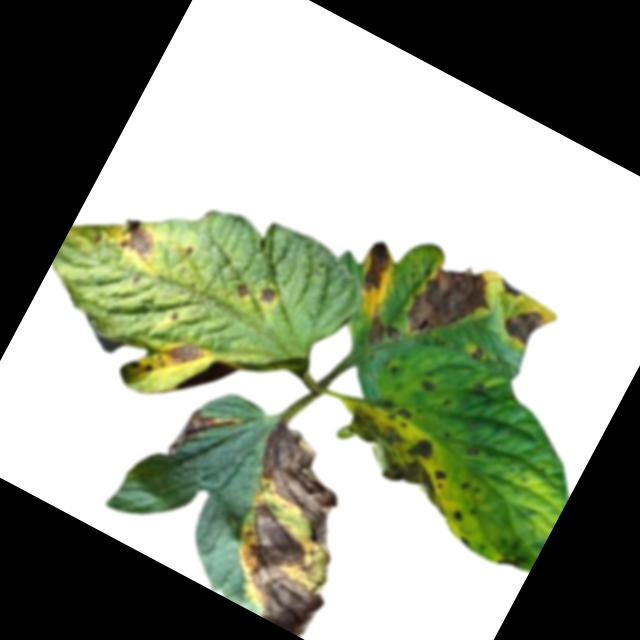Early_blight: (190, 418, 389, 638), (328, 395, 475, 513), (396, 248, 503, 360), (163, 393, 245, 480), (348, 237, 402, 300), (494, 299, 548, 353), (116, 217, 162, 265), (161, 332, 206, 377), (359, 310, 404, 355), (124, 354, 155, 380), (494, 277, 524, 302), (255, 285, 279, 309), (496, 553, 520, 574), (416, 376, 439, 397), (230, 281, 250, 301), (467, 345, 485, 364), (449, 508, 465, 526), (396, 407, 412, 422), (466, 445, 480, 458), (472, 385, 483, 397)
